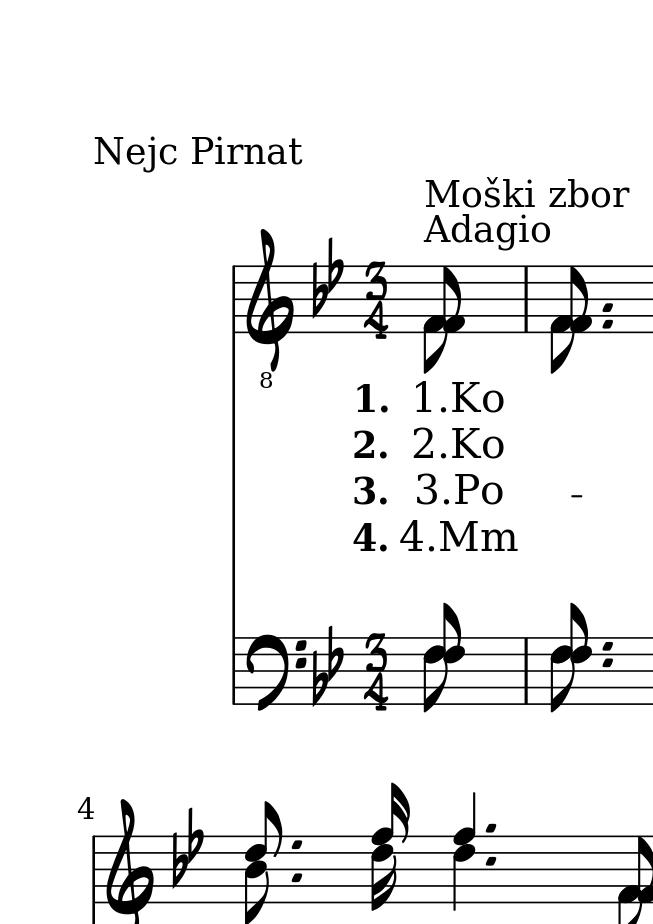16_6_8: (371, 782, 411, 912)
3: (363, 630, 392, 671), (364, 256, 389, 300)
4: (362, 669, 393, 710), (362, 297, 392, 339), (77, 794, 96, 823)
4_6_8: (452, 792, 477, 914)
8_4_6: (244, 801, 284, 924)
B_F: (170, 803, 203, 891), (311, 235, 345, 317), (311, 625, 342, 710)
Fclef: (247, 634, 306, 713)
Lower_Gclef: (244, 229, 296, 391)
Single_barline: (518, 638, 535, 702), (226, 637, 242, 703), (227, 265, 241, 333), (87, 833, 100, 901)
TimeSig: (364, 260, 390, 343), (364, 633, 390, 713)
dot: (600, 300, 619, 315), (288, 838, 305, 853), (483, 854, 499, 869), (600, 318, 618, 330), (600, 656, 615, 670), (599, 639, 615, 652), (483, 822, 499, 835), (288, 872, 303, 884)
